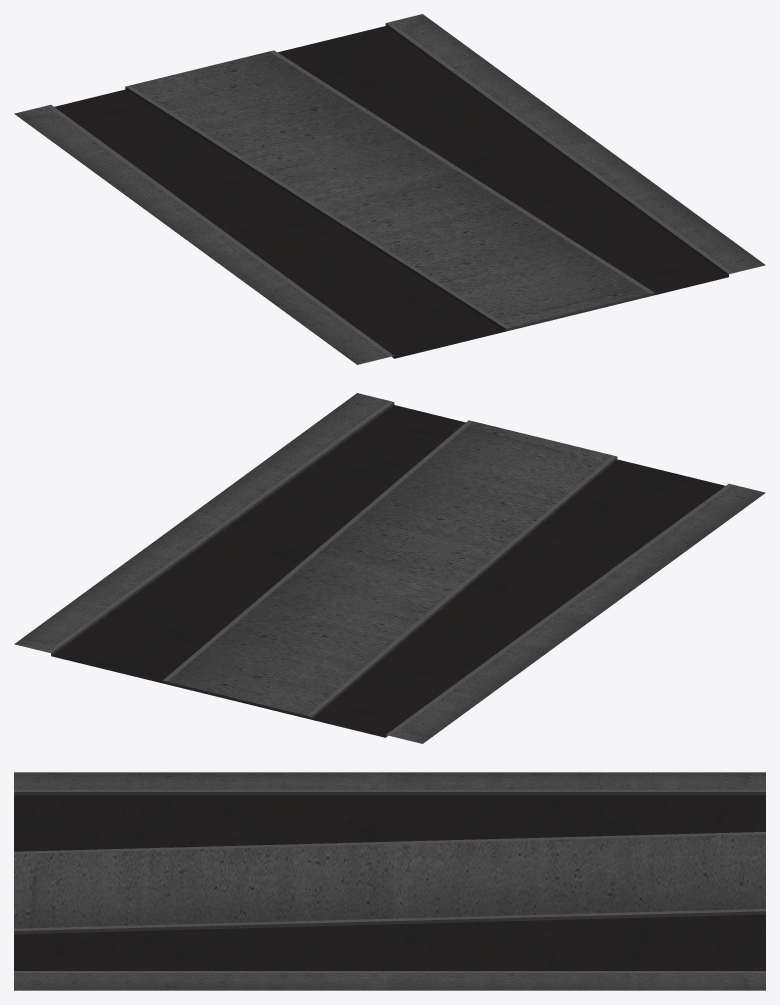
Rendered from RJs_Road Pass 2+4+2 Basic Segment_L_3_lod.fbx.
3 renders of one model, top to bottom at view 1: azimuth 30°, elevation 25°; view 2: azimuth 150°, elevation 25°; view 3: azimuth 270°, elevation 25°, orthographic. The views are drawn at different scales.
Parts seen in each view (by area): view 1: plane_lod; view 2: plane_lod; view 3: plane_lod.
Part boxes in pixels (left/top/right/bottom): plane_lod: left=14, top=14, right=765, bottom=364; plane_lod: left=14, top=393, right=765, bottom=743; plane_lod: left=14, top=772, right=765, bottom=990.
Size of the model in its own units: 4400 by 30.1 by 6400.
